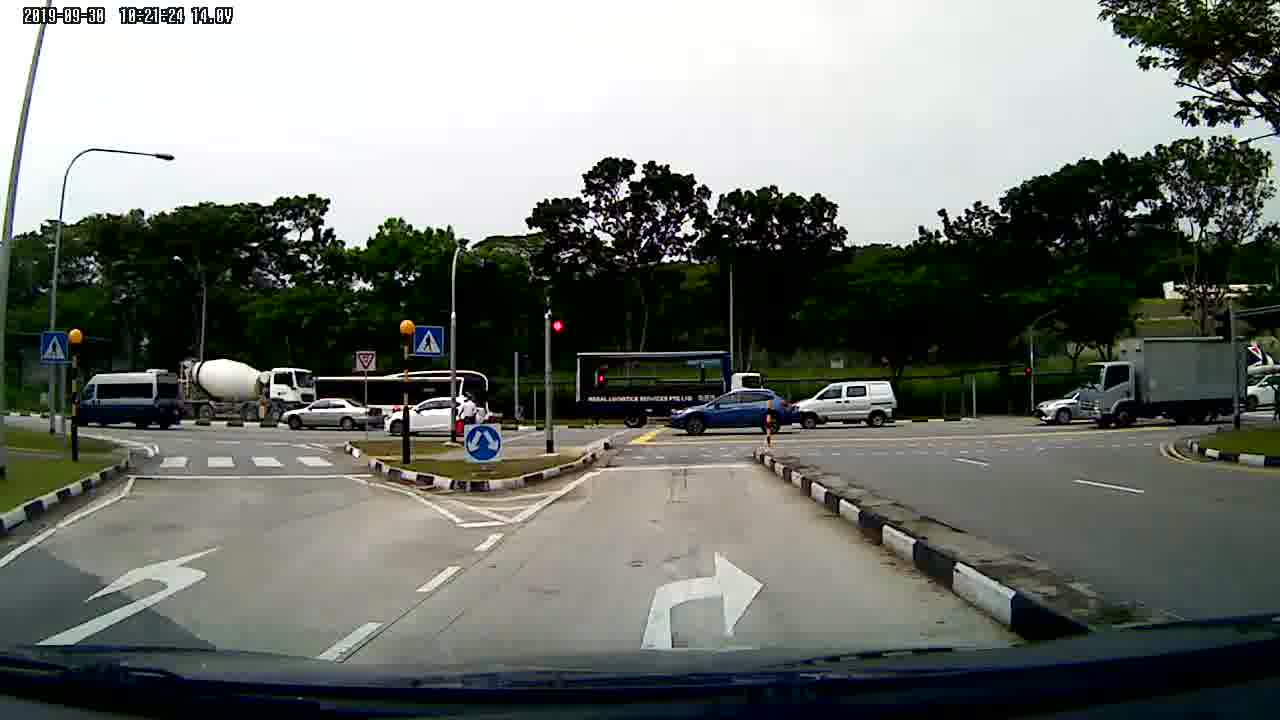bus: (314, 370, 496, 422)
car: (666, 390, 792, 439), (386, 396, 489, 439), (278, 396, 385, 430)
